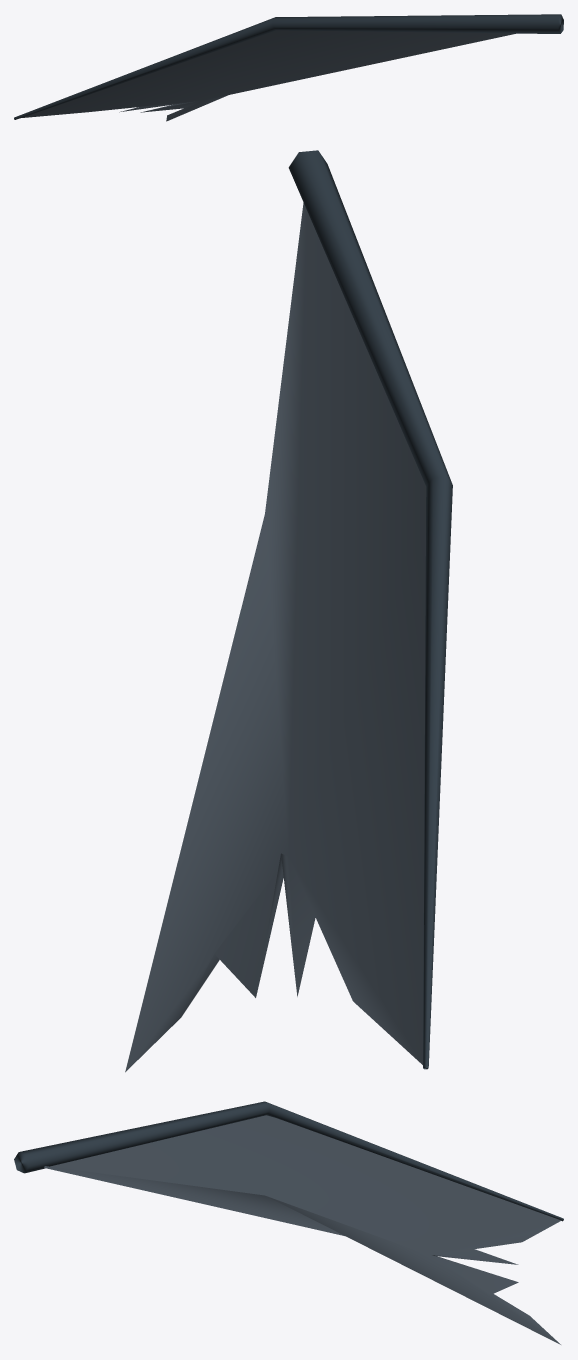
The model's file is L_Wing_Membrane_2.obj.
3 views of the same model, one above another, from view 1: azimuth 30°, elevation 25°; view 2: azimuth 150°, elevation 25°; view 3: azimuth 270°, elevation 25° (orthographic). The views are drawn at different scales.
Visible parts, largest first — view 1: L_Wing_Membrane_2; view 2: L_Wing_Membrane_2; view 3: L_Wing_Membrane_2.
Part boxes in pixels (left/top/right/bottom): L_Wing_Membrane_2: left=14, top=14, right=563, bottom=121; L_Wing_Membrane_2: left=125, top=150, right=452, bottom=1072; L_Wing_Membrane_2: left=14, top=1101, right=563, bottom=1344.
Size of the model in its own units: 3.94 by 2.99 by 5.45.
